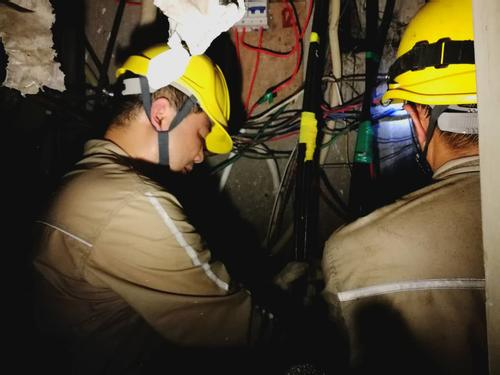hard-hat: (114, 42, 234, 155), (382, 0, 478, 107)
person: (30, 41, 333, 375), (319, 0, 489, 374)
